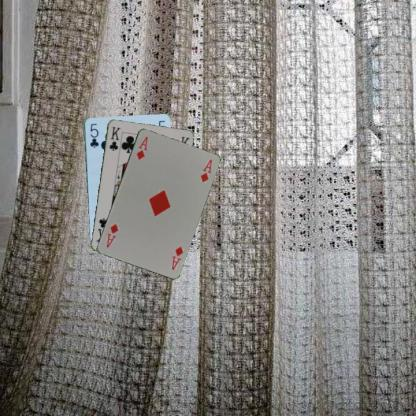5c: (87, 121, 100, 149)
Ad: (169, 243, 184, 271), (134, 134, 149, 160)
Kc: (107, 124, 122, 152)
